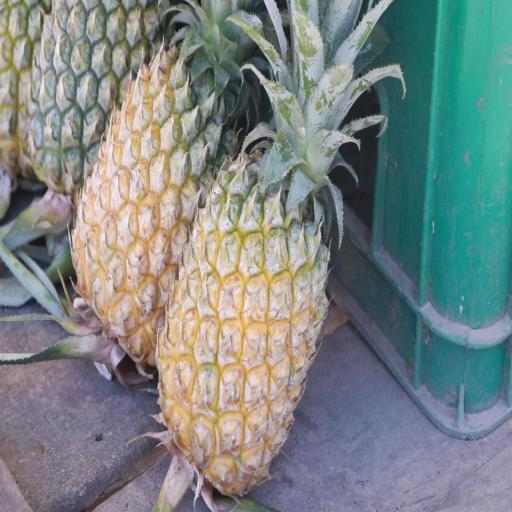Pineapple - v8 v1: (154, 103, 335, 509), (66, 0, 246, 382)
